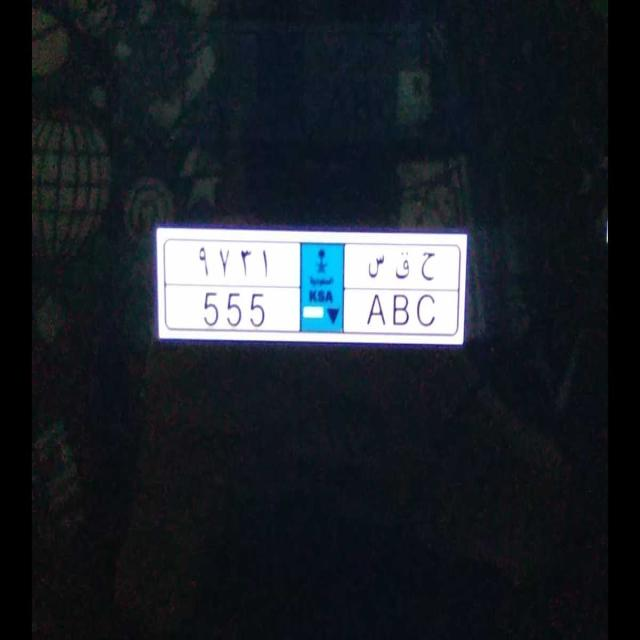license_plate: (164, 286, 458, 336)
